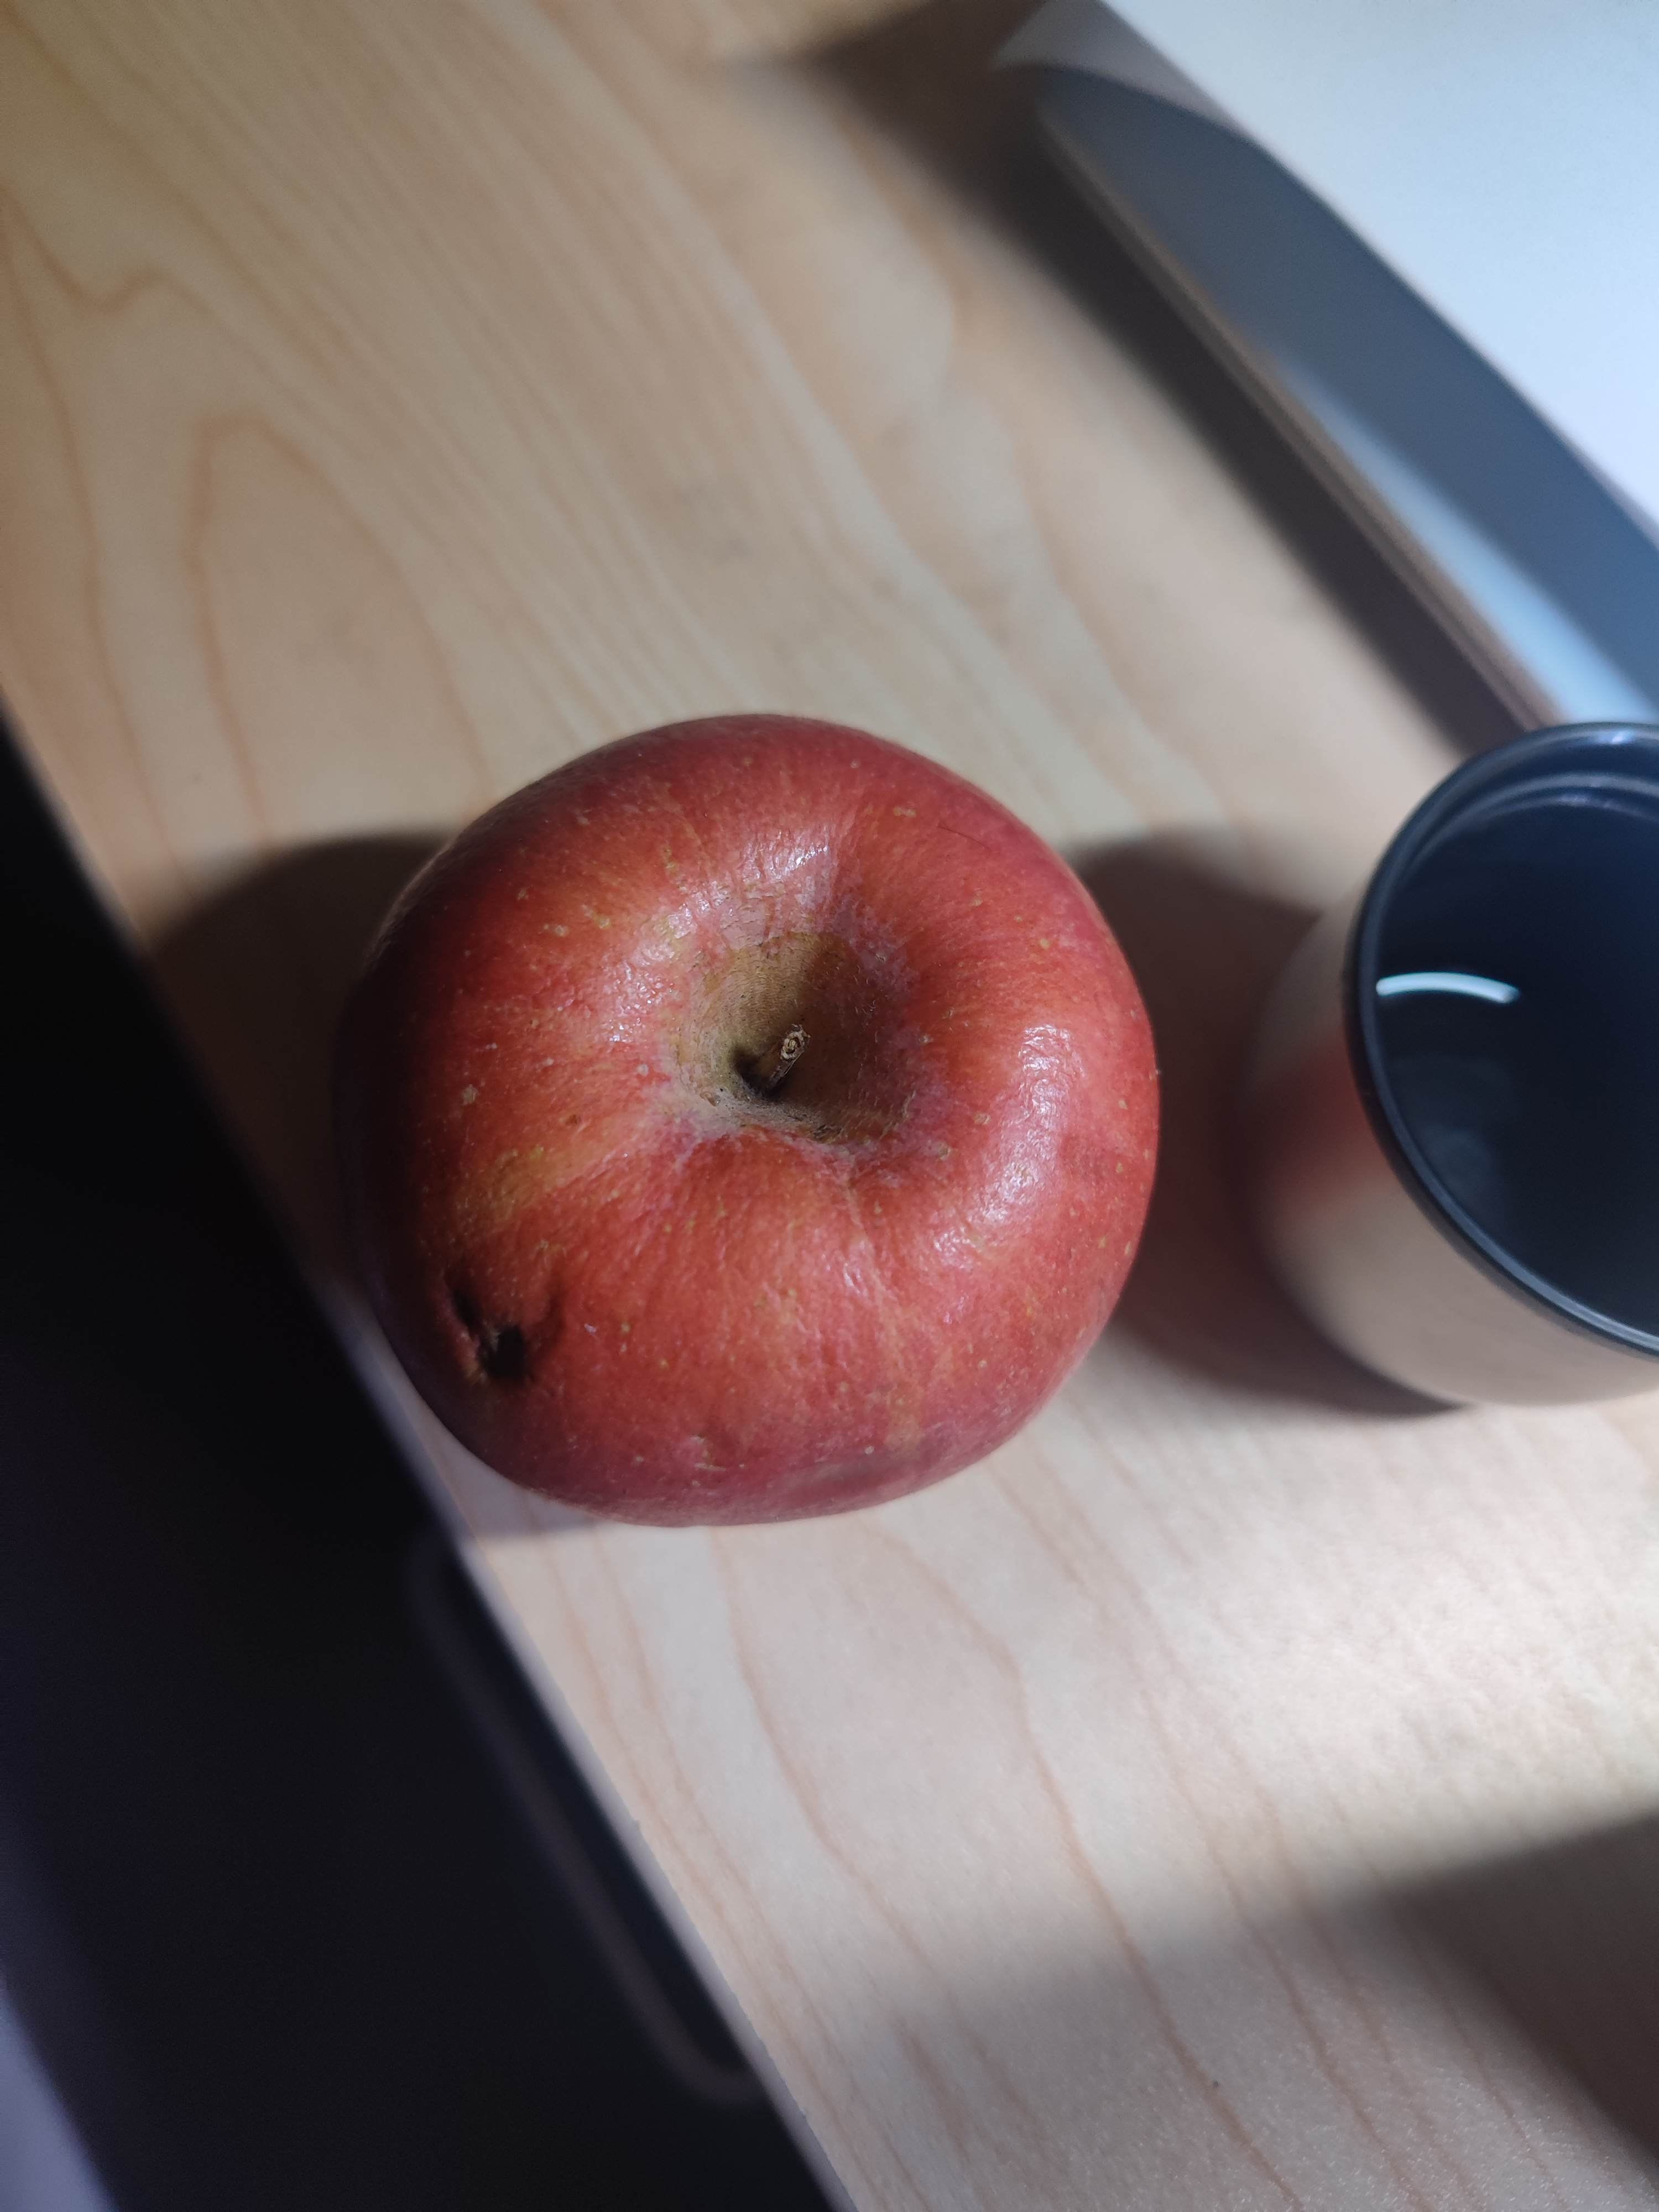apple: (333, 714, 1164, 1533)
